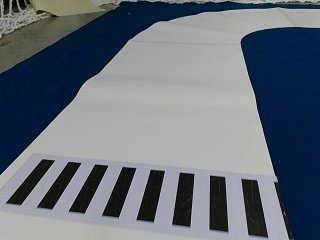crosswalk: (10, 158, 268, 237)
